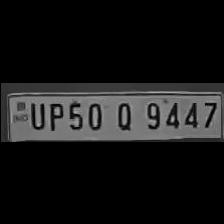0: (82, 98, 106, 130)
4: (162, 97, 180, 129), (180, 98, 198, 128)
5: (64, 97, 82, 131)
7: (200, 98, 218, 128)
9: (139, 97, 161, 129)
P: (43, 98, 62, 132)
Q: (110, 97, 136, 130)
U: (26, 98, 44, 130)
